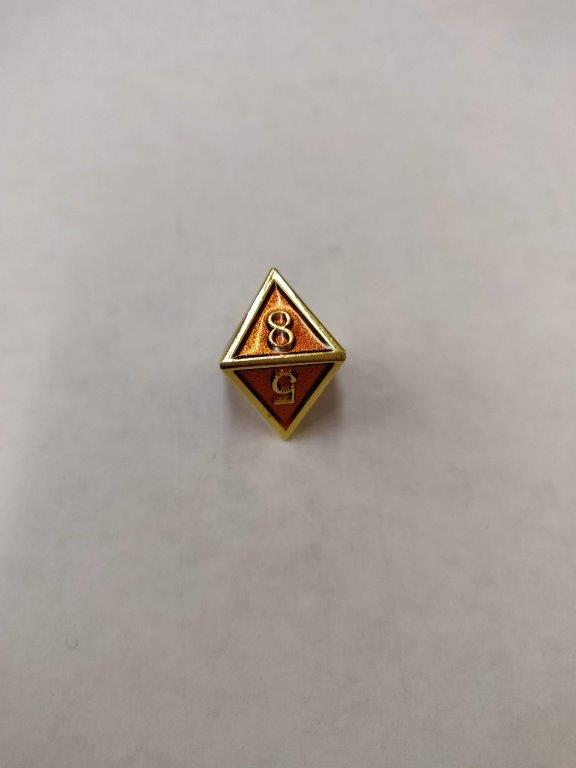d8-8: (215, 268, 347, 441)
